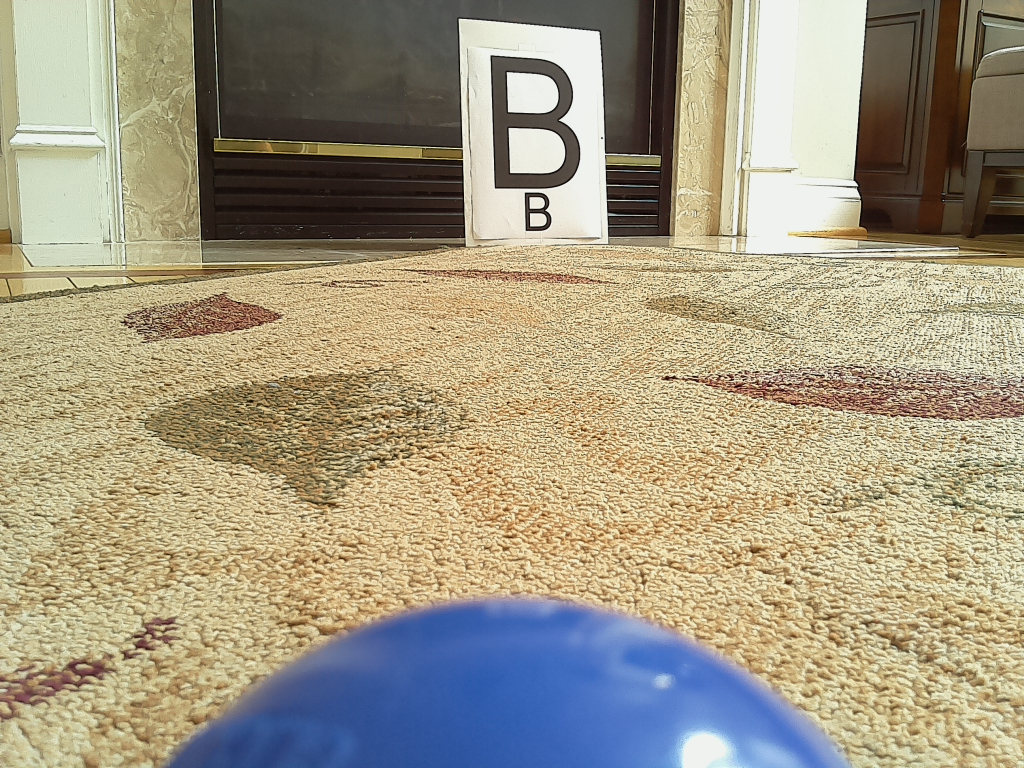letter: (491, 56, 581, 189)
